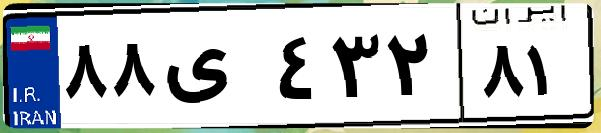1: (525, 38, 570, 115)
2: (385, 28, 445, 110)
3: (330, 28, 385, 110)
4: (270, 28, 330, 110)
8: (57, 26, 110, 100), (475, 38, 525, 113), (110, 28, 158, 98)
ی: (158, 20, 270, 120)
